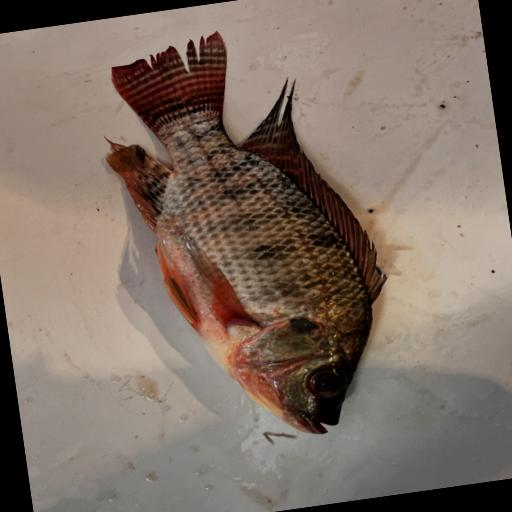Tilapia: (91, 12, 409, 459)
